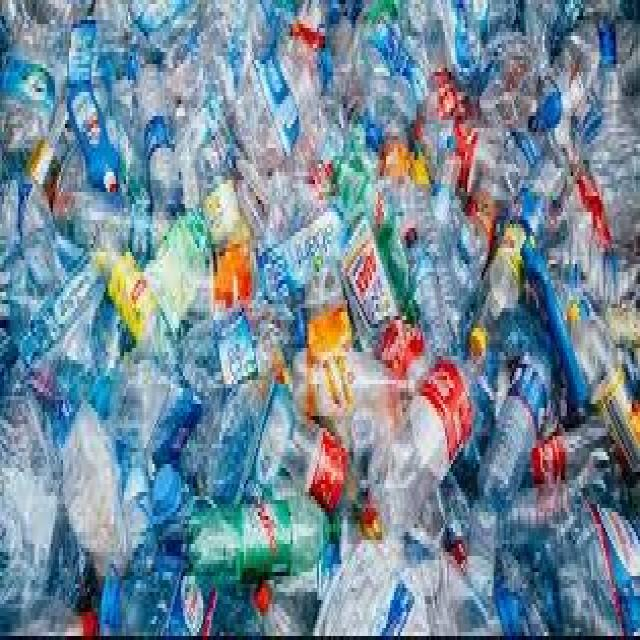heap: (29, 9, 631, 629)
